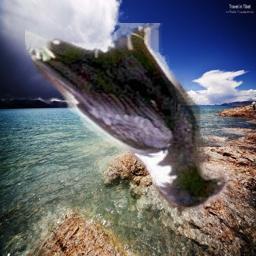Crow: (25, 23, 228, 215)
